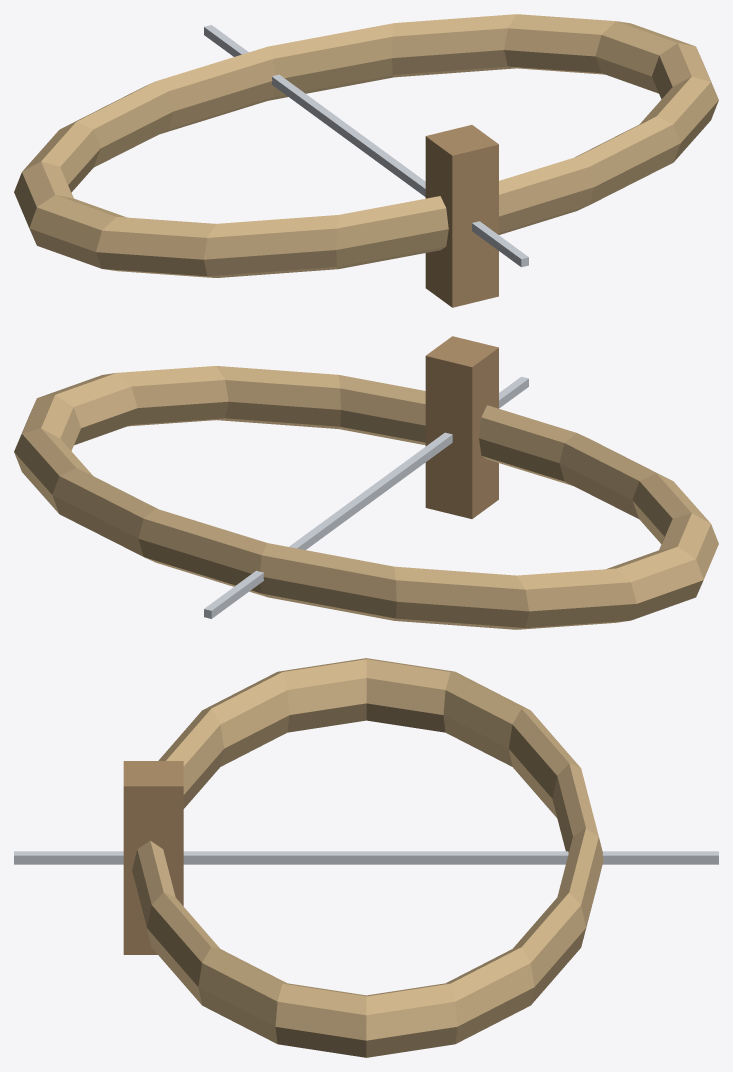
Rendered from bow.glb.
3 renders of one model, top to bottom at view 1: azimuth 30°, elevation 25°; view 2: azimuth 150°, elevation 25°; view 3: azimuth 270°, elevation 25°, orthographic. The views are drawn at different scales.
Visible parts, largest first — view 1: BowCurve; view 2: BowCurve; view 3: BowCurve.
Boxes of the visible parts, bbox=[...] form: BowCurve: bbox=[14, 14, 718, 307]; BowCurve: bbox=[14, 336, 718, 629]; BowCurve: bbox=[14, 658, 718, 1057].
Bounding box in the file's own units: 1.3 × 0.28 × 1.06.
